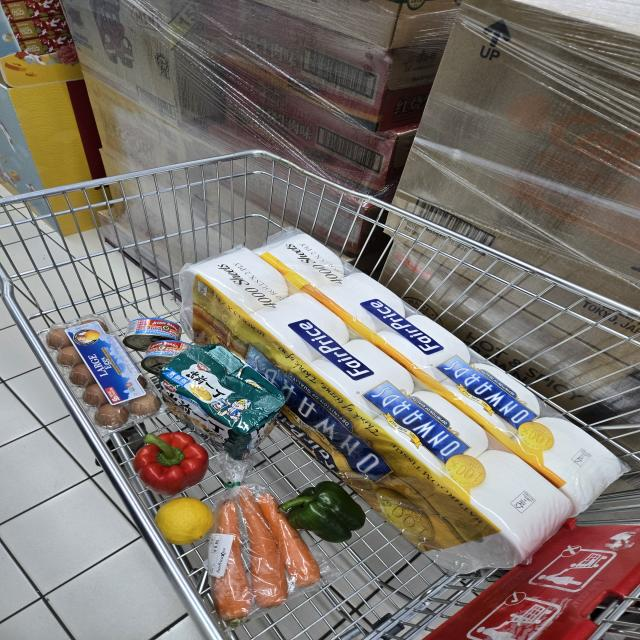bell-pepper: (124, 426, 218, 491), (281, 478, 371, 544)
carrot: (257, 486, 334, 592), (237, 487, 294, 609), (206, 498, 259, 623)
eggs: (41, 315, 168, 431)
instant-noodle: (152, 338, 285, 466)
lemon: (154, 494, 216, 546)
toilet-paper: (165, 246, 580, 575), (250, 221, 634, 523)
tuna-can: (115, 312, 184, 348), (138, 338, 202, 376)
